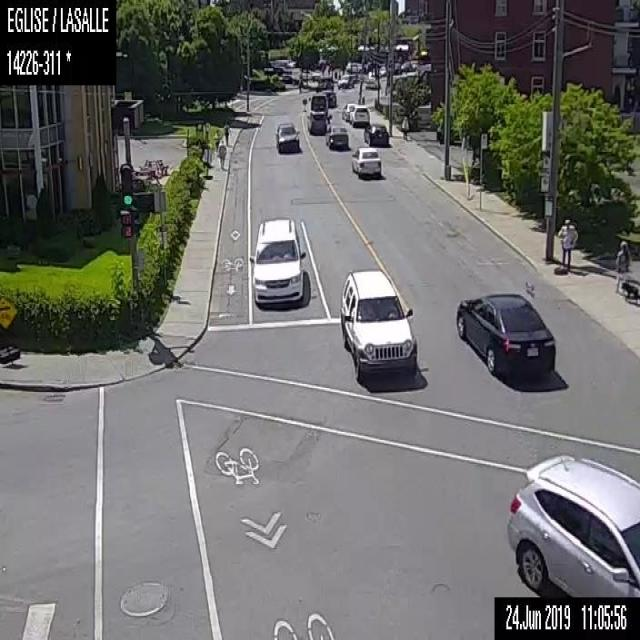pedestrian: (556, 217, 578, 271), (614, 238, 630, 298), (216, 138, 229, 170), (400, 111, 411, 141), (221, 120, 231, 146)
vehicle: (505, 452, 639, 595), (453, 289, 555, 382), (338, 266, 418, 382), (248, 216, 306, 307), (274, 116, 301, 153), (308, 93, 332, 134), (350, 145, 380, 176), (364, 122, 390, 148), (325, 124, 348, 149), (348, 103, 368, 126), (336, 70, 354, 89), (318, 89, 336, 107), (316, 74, 332, 94), (363, 74, 380, 90), (340, 100, 352, 121), (279, 73, 298, 85), (400, 60, 416, 71)
